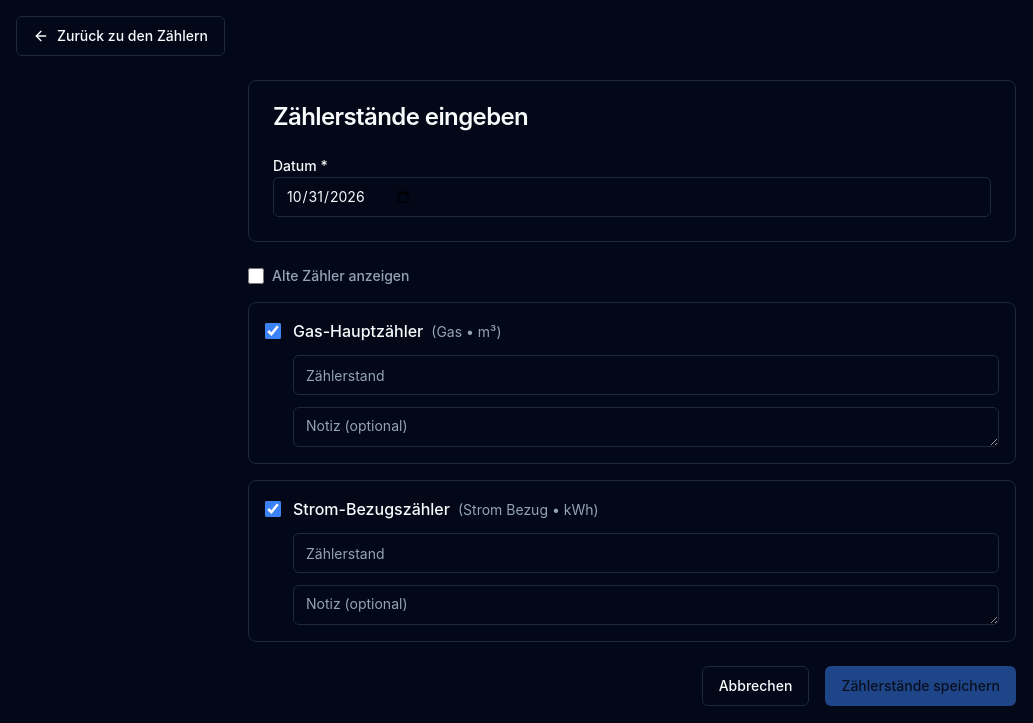
Test: AddReading (Zählerstände eintragen) › disables the submit button until a selected meter has a value
The width and height of the screenshot is (1033, 723).
Expected: the button "Zählerstände speichern" is disabled, [826,666,1016,706]
Type "55" into the number field labelled "Gas-Hauptzähler(Gas • m³)". click: (646, 375)
box: [293,355,999,395]
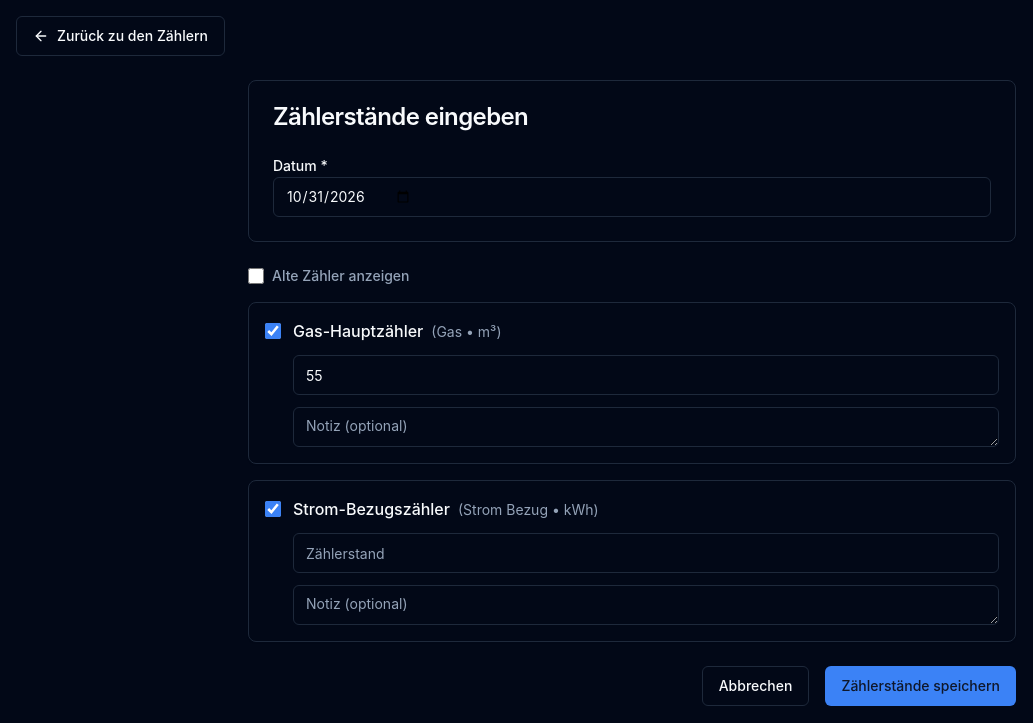
Result: the button "Zählerstände speichern" is enabled at [826,666,1016,706]
Clear the number field labelled "Gas-Hauptzähler(Gas • m³)". click: (646, 375)
box: [293,355,999,395]
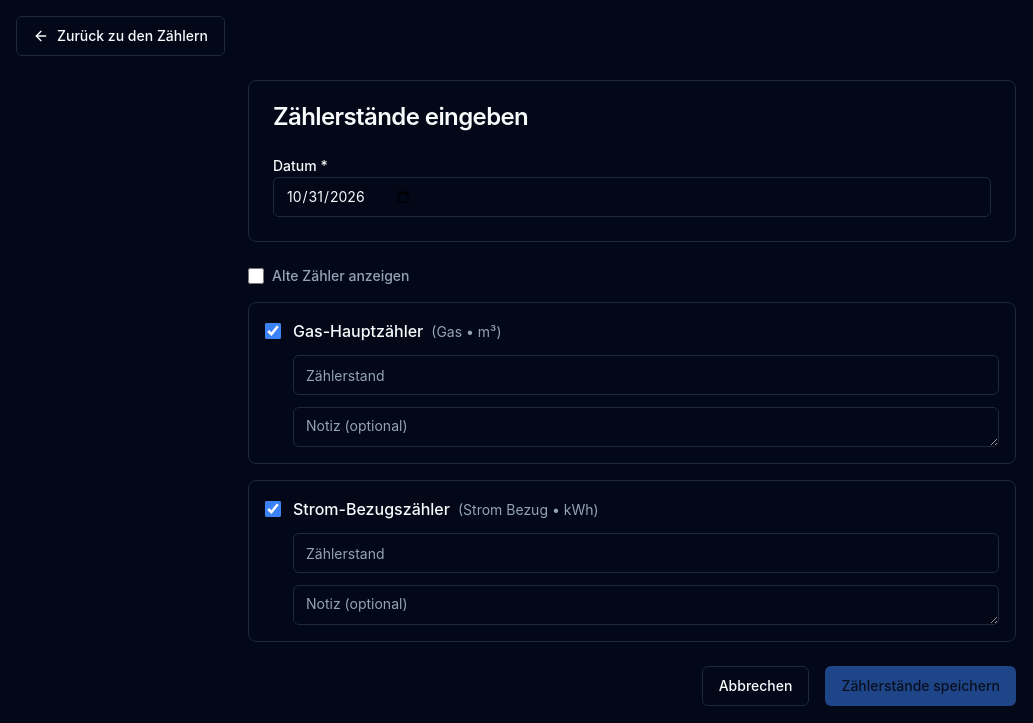
Result: the button "Zählerstände speichern" is disabled at [826,666,1016,706]
